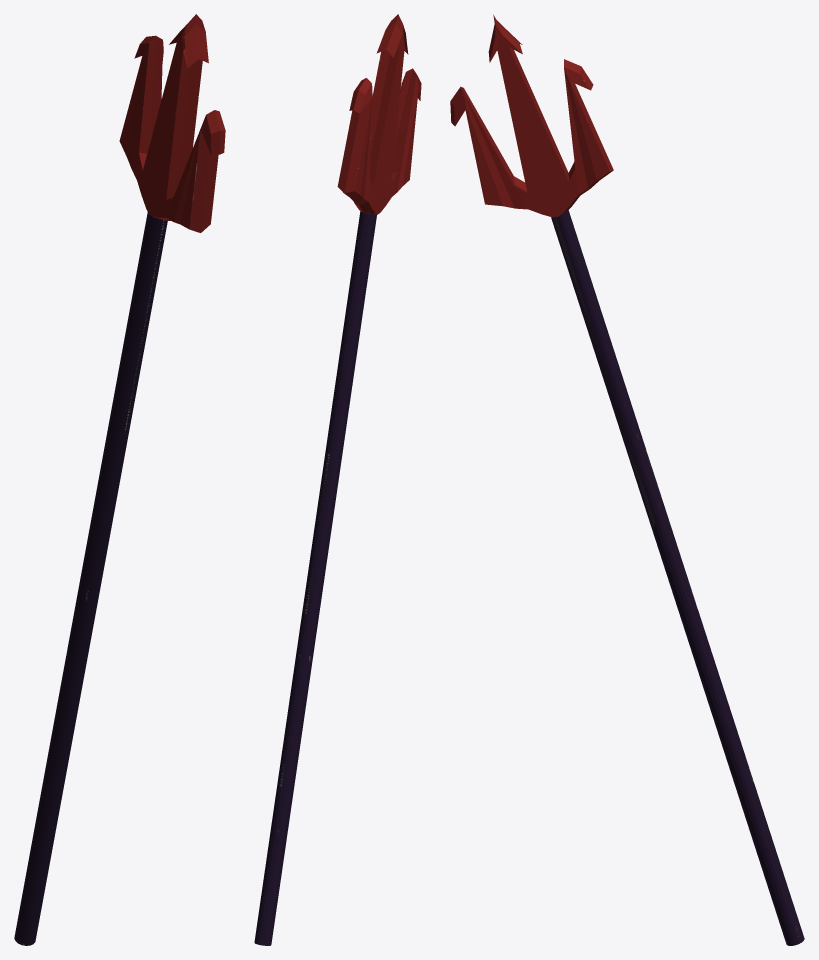
File: extraDiablo.obj
3 renders of one model, left to right at view 1: azimuth 30°, elevation 25°; view 2: azimuth 150°, elevation 25°; view 3: azimuth 270°, elevation 25°, orthographic. The views are drawn at different scales.
Parts seen in each view (by area): view 1: diabloPalo, diabloTridente; view 2: diabloPalo, diabloTridente; view 3: diabloPalo, diabloTridente.
Part boxes in pixels (<box>): diabloPalo: <box>14,212,167,945</box>; diabloTridente: <box>119,14,225,232</box>; diabloPalo: <box>254,211,376,945</box>; diabloTridente: <box>337,14,421,214</box>; diabloPalo: <box>551,210,804,945</box>; diabloTridente: <box>450,14,613,217</box>.
Bounding box in the file's own units: 0.1078 × 5.06 × 1.75.
1 material, 1 textured.
